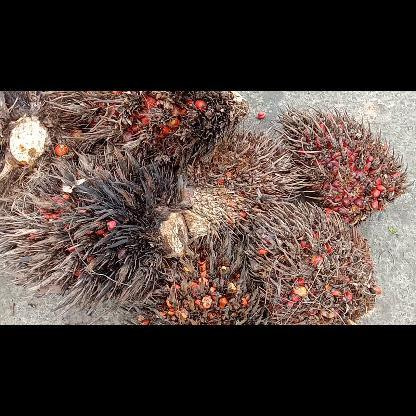Terlalu masak: (0, 150, 208, 312), (274, 105, 414, 223), (246, 202, 374, 324), (124, 230, 262, 324), (63, 90, 248, 160), (0, 91, 84, 211), (186, 122, 304, 200)
